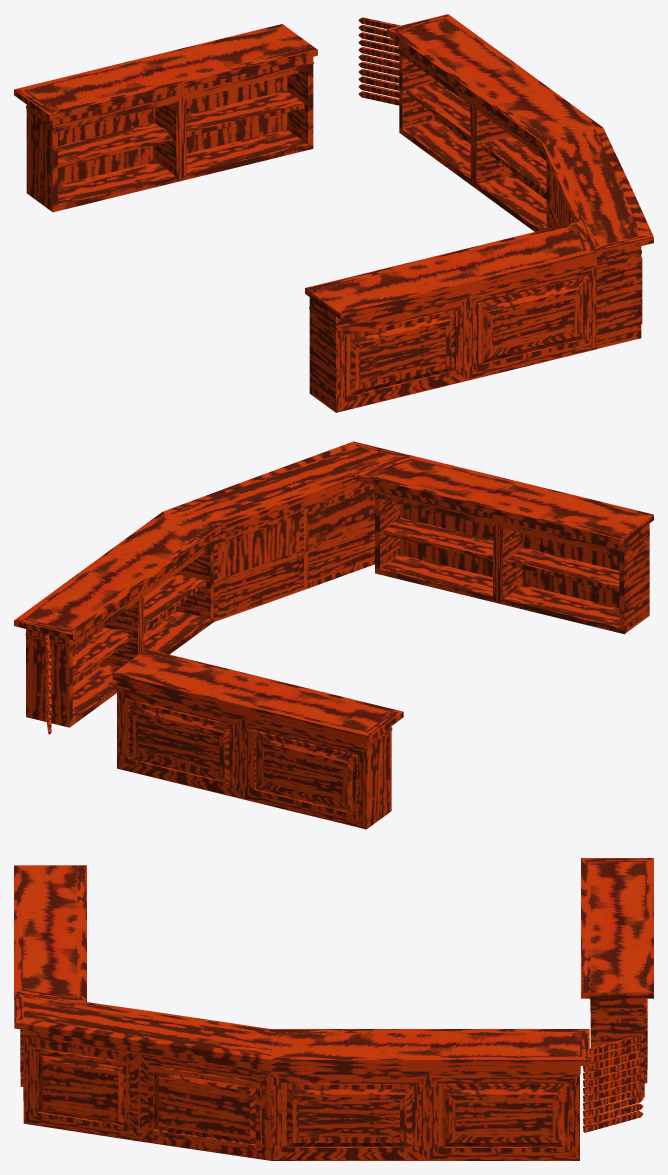
Rendered from bar(1).fbx.
3 renders of one model, top to bottom at view 1: azimuth 30°, elevation 25°; view 2: azimuth 150°, elevation 25°; view 3: azimuth 270°, elevation 25°, orthographic. The views are drawn at different scales.
Parts seen in each view (by area): view 1: Cube.015, Cube.016, Cube.014, Cube.013, Cube.012; view 2: Cube.016, Cube.015, Cube.014, Cube.013, Cube.012; view 3: Cube.014, Cube.013, Cube.015, Cube.016, Cube.012.
Boxes of the visible parts, x1,y1,x2,y2 form: Cube.015: (14,24,317,212); Cube.016: (305,221,596,412); Cube.014: (387,14,602,231); Cube.013: (541,127,653,348); Cube.012: (358,17,400,105); Cube.016: (359,455,653,634); Cube.015: (112,649,403,829); Cube.014: (14,512,221,727); Cube.013: (163,441,411,621); Cube.012: (45,633,51,734); Cube.014: (271,1029,589,1160); Cube.013: (14,992,271,1160); Cube.015: (581,858,653,1097); Cube.016: (14,865,86,1100); Cube.012: (583,1035,643,1132).
Size of the model in its own units: 9.32 by 12.49 by 2.26.
